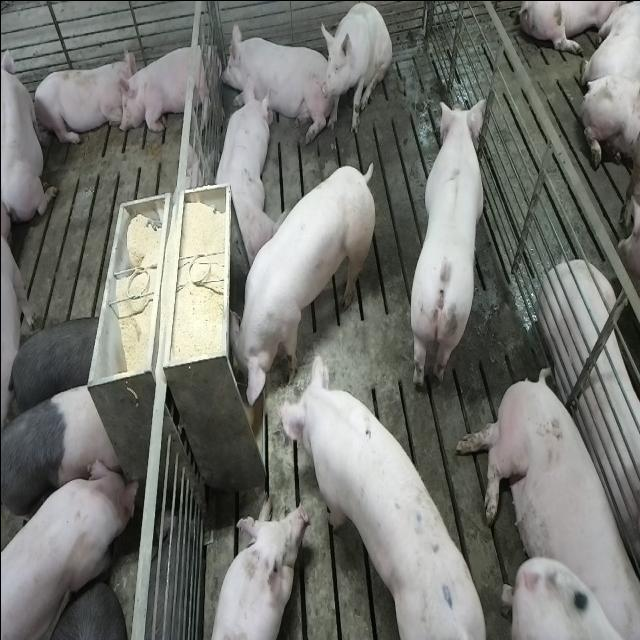Feeding: (222, 160, 370, 412)
Lateral_lying: (452, 363, 636, 638), (537, 257, 640, 586)
Sitting: (320, 2, 391, 136)
Standing: (270, 354, 489, 640), (2, 457, 139, 640), (409, 92, 490, 396), (2, 381, 124, 548), (7, 311, 103, 423)
Sternal_lying: (204, 497, 304, 640), (215, 19, 328, 138), (210, 80, 272, 262), (3, 37, 57, 225), (31, 52, 130, 150), (119, 38, 215, 138)
